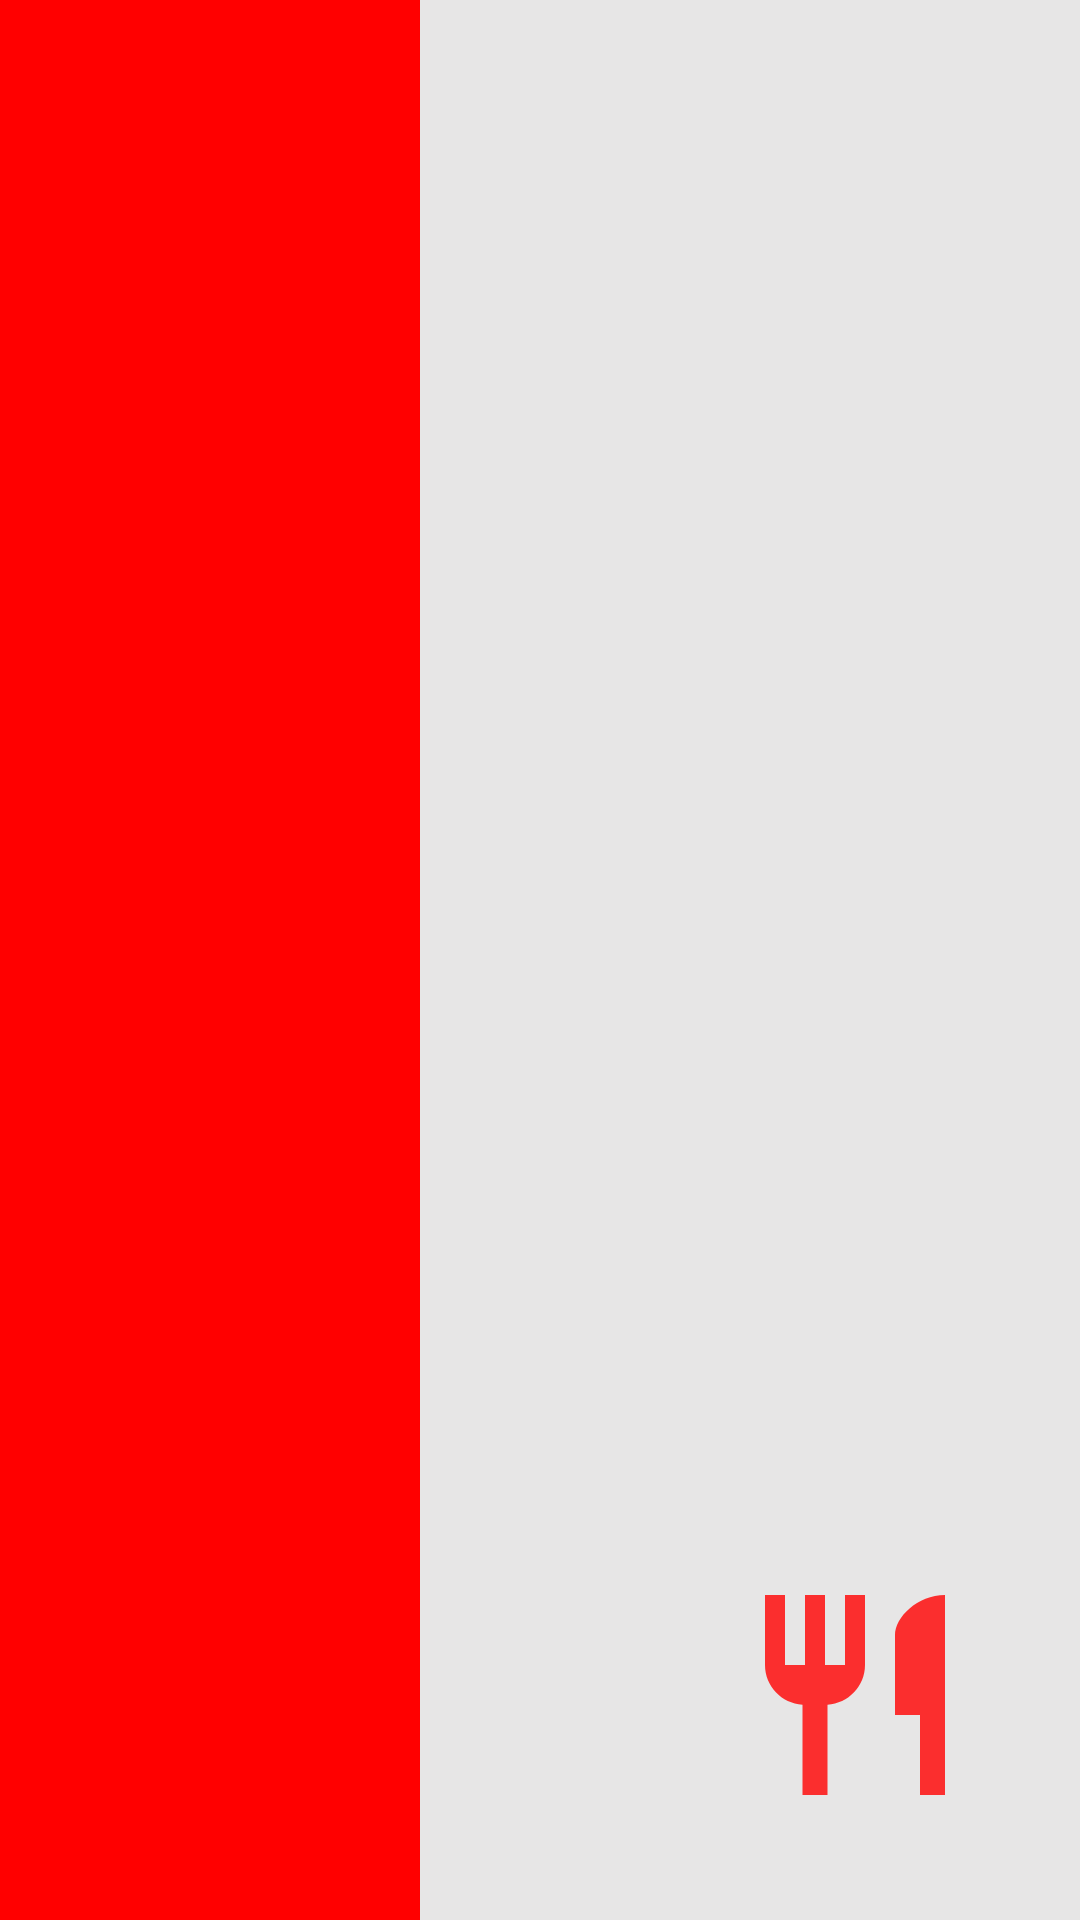

Where to tap for icons on this 1080w x 1920h app screen, as (x=x, y=y):
restaurant: (x=855, y=1695)
